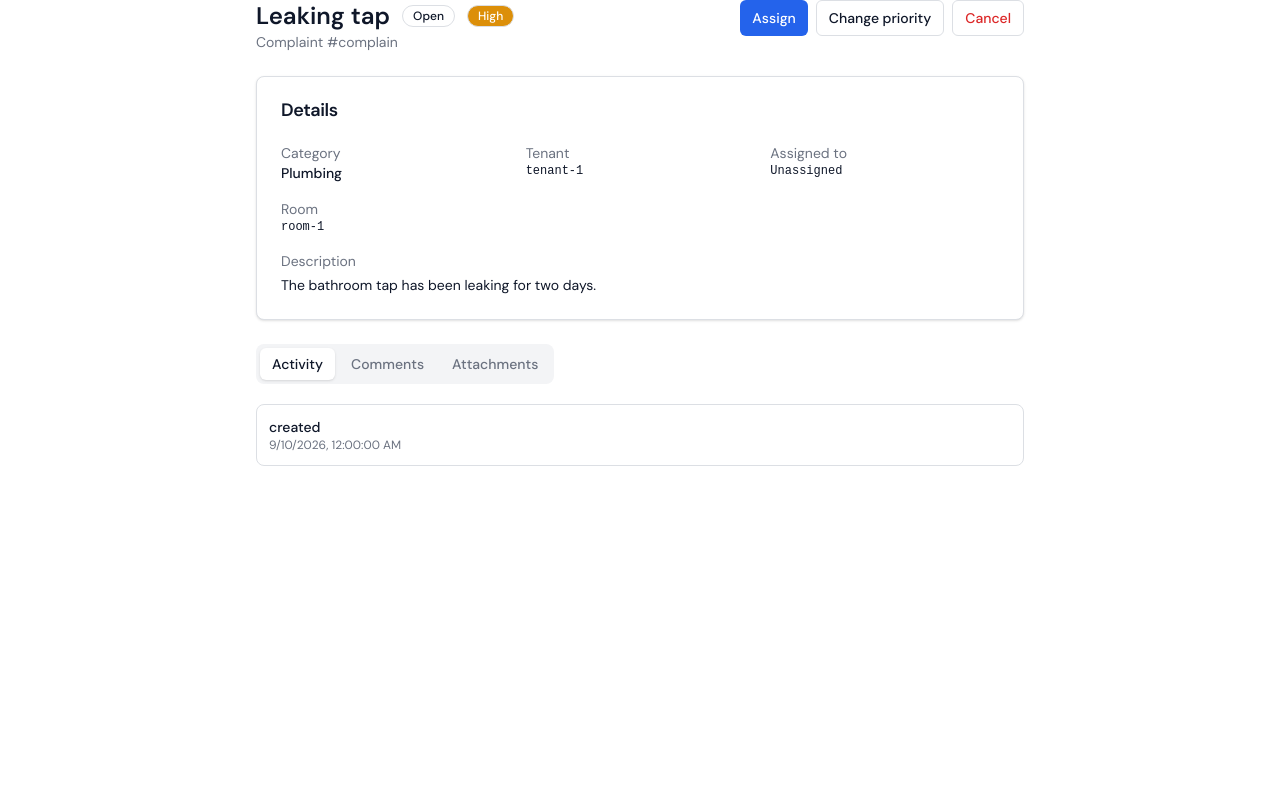
Test: ComplaintDetailPage › assigns the complaint to a user by ID
Click the button "Assign" at (774, 18), box top-left (740, 0), bottom-right (808, 36)
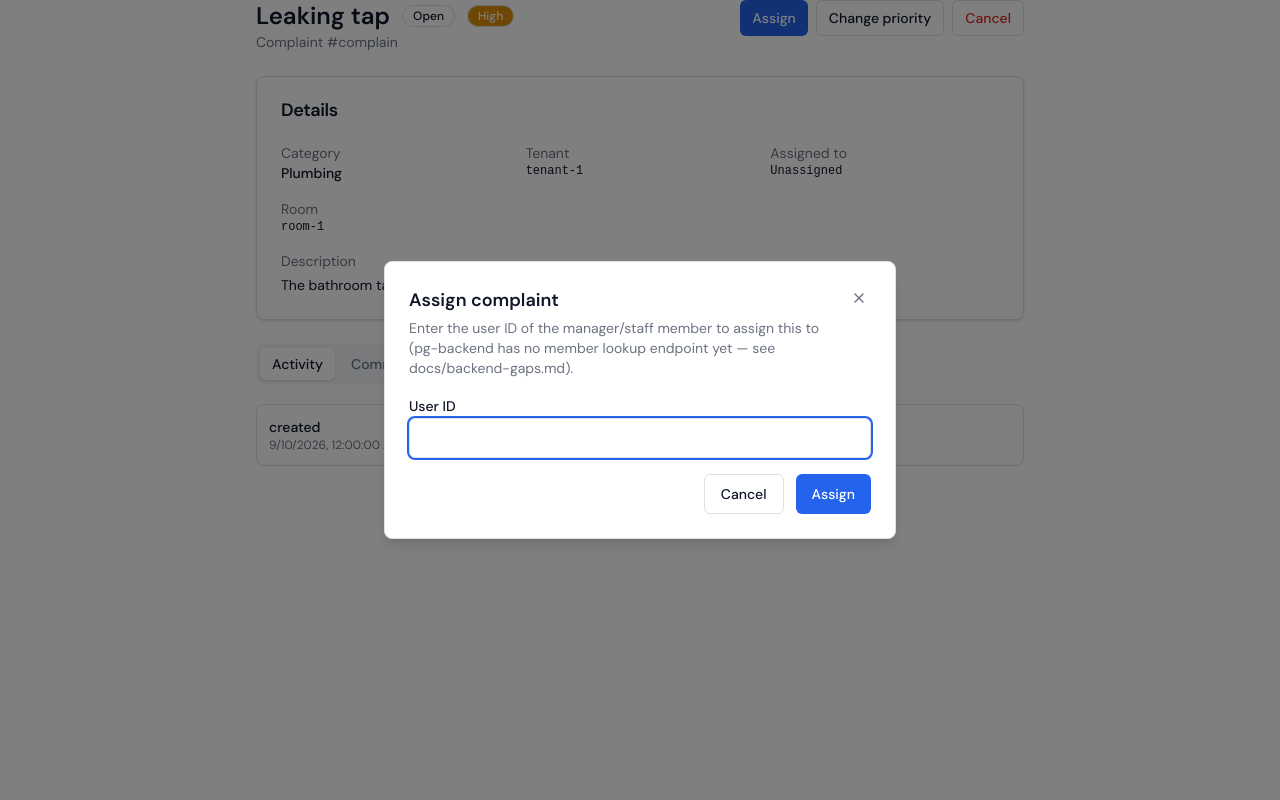
Type "11111111-1111-4111-8111-111111111111" into the field labelled "User ID" at (640, 438), box top-left (409, 418), bottom-right (871, 458)
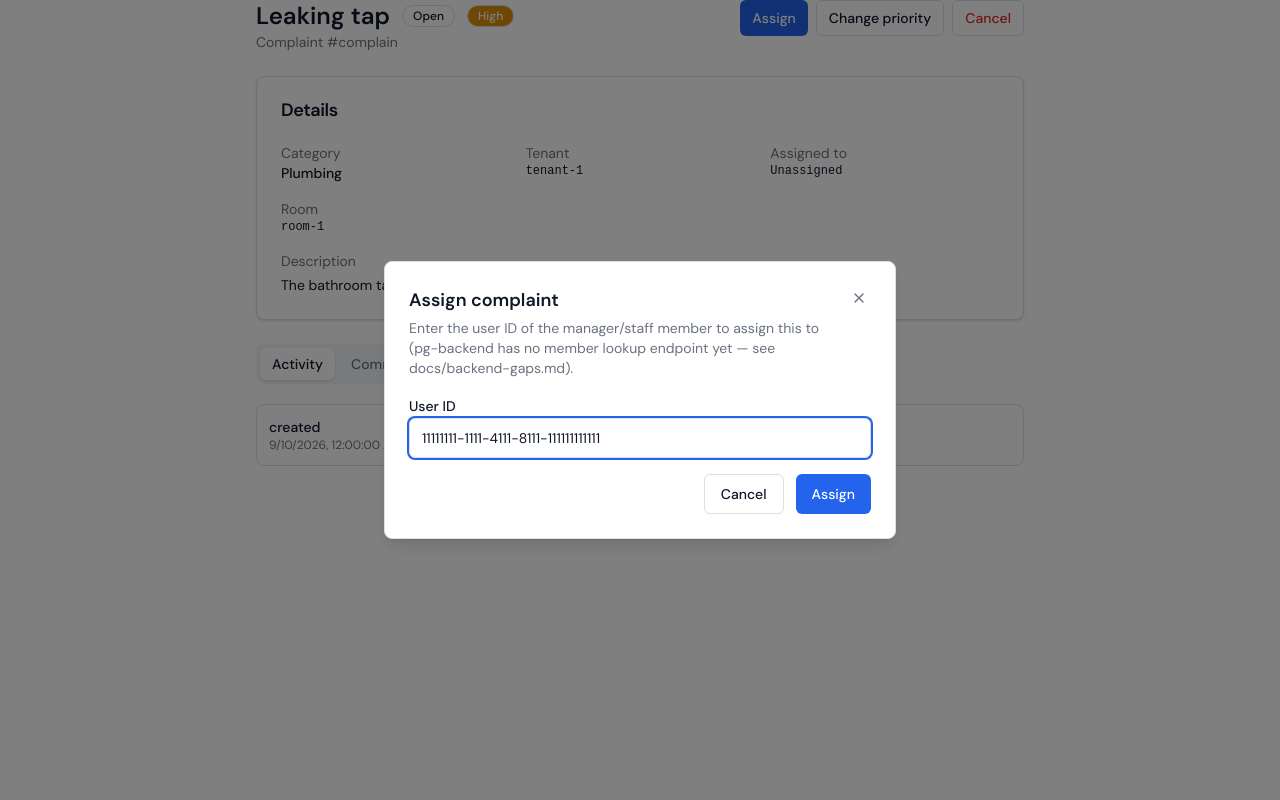
Click the button "Assign" at (833, 494), box top-left (796, 474), bottom-right (871, 514)
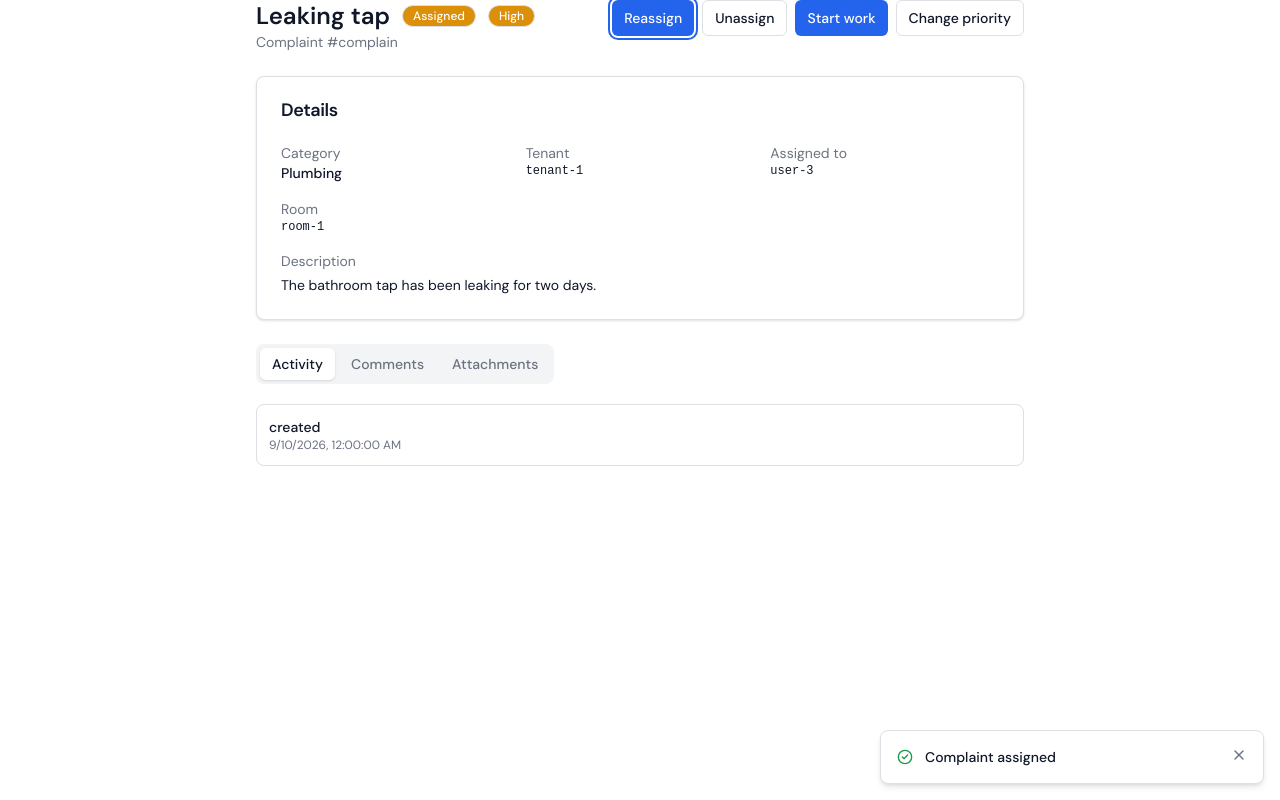
Now the text "Complaint assigned" is shown, box top-left (925, 748), bottom-right (1056, 766)
